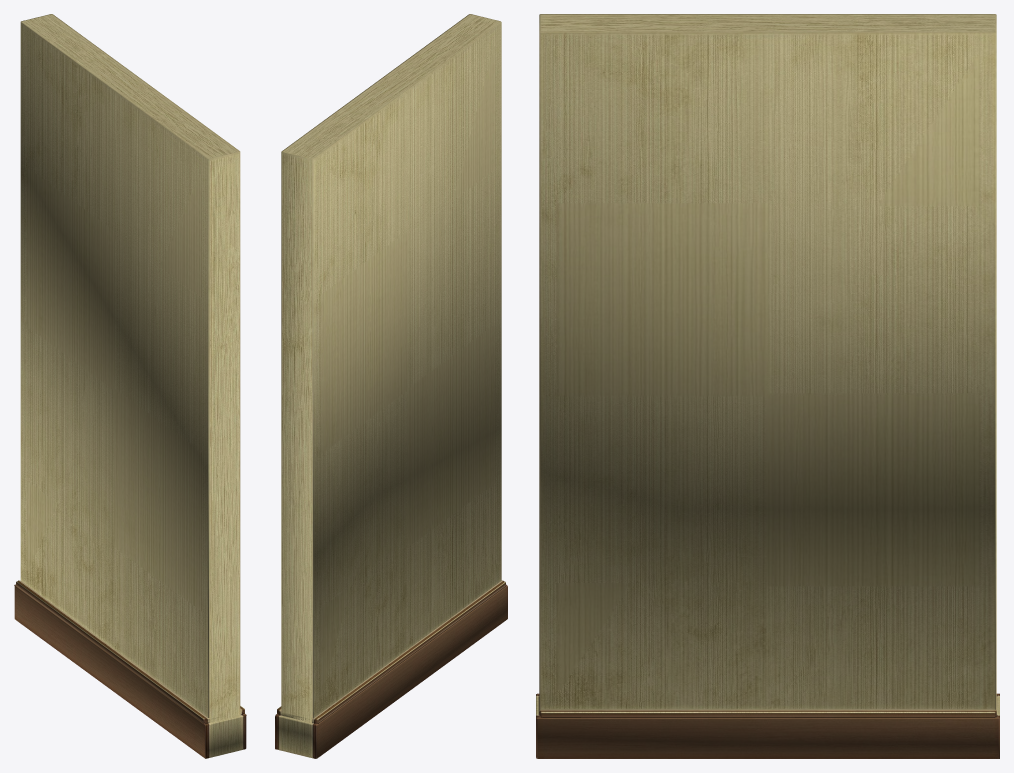
The model's file is tripo_convert_bdcfbd83-d6cd-45b3-893e-6dcf2e4c0f4c.fbx.
3 renders of one model, left to right at view 1: azimuth 30°, elevation 25°; view 2: azimuth 150°, elevation 25°; view 3: azimuth 270°, elevation 25°, orthographic. The views are drawn at different scales.
Parts seen in each view (by area): view 1: tripo_node_bdcfbd83; view 2: tripo_node_bdcfbd83; view 3: tripo_node_bdcfbd83.
Boxes of the visible parts, x1=… form: tripo_node_bdcfbd83: x1=14, y1=14, x2=246, y2=758; tripo_node_bdcfbd83: x1=275, y1=14, x2=507, y2=758; tripo_node_bdcfbd83: x1=536, y1=14, x2=999, y2=758.
Size of the model in its own units: 0.0723 by 0.998 by 0.5801.
1 material, 1 textured.
